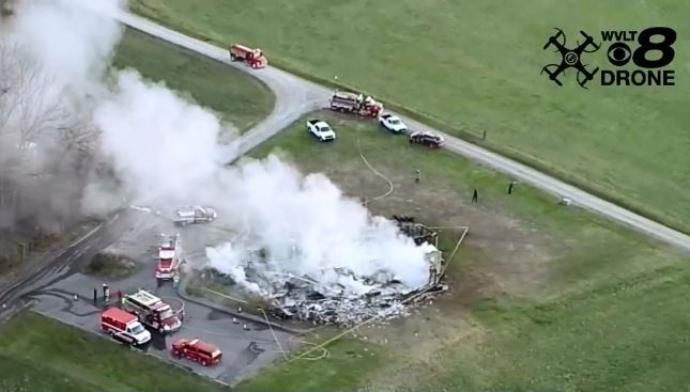smoke: (225, 161, 401, 293), (117, 81, 219, 246), (15, 6, 108, 162)
